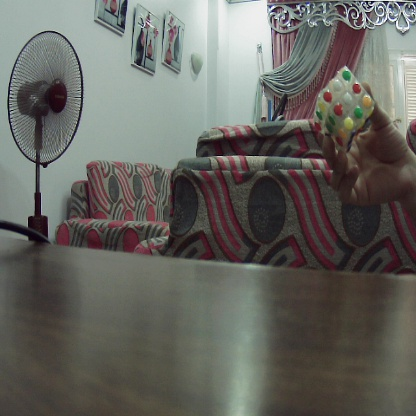Rubix Cube: (320, 72, 367, 141)
